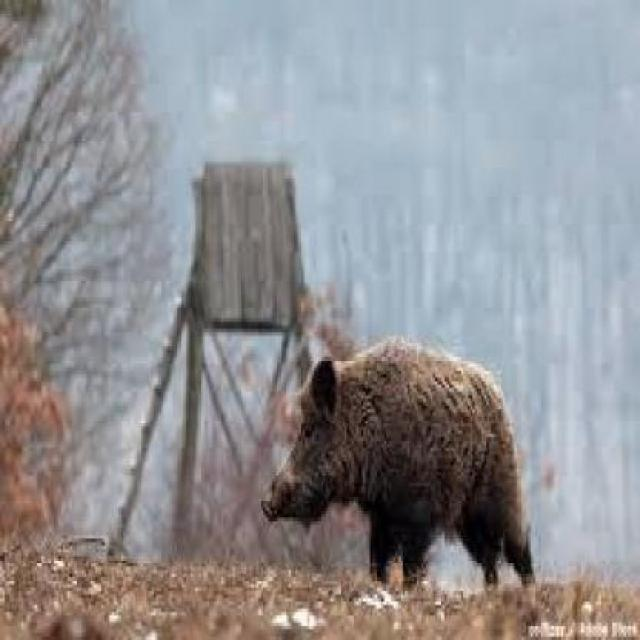Wild Boar: (259, 332, 541, 597)
